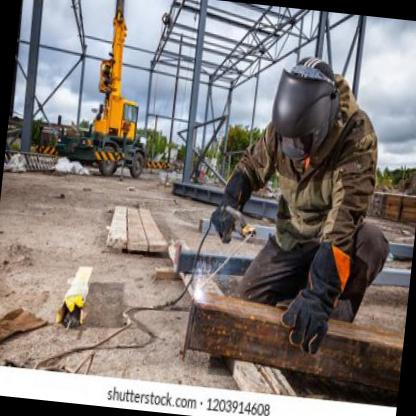Gloves: (276, 237, 353, 358), (207, 166, 254, 246)
